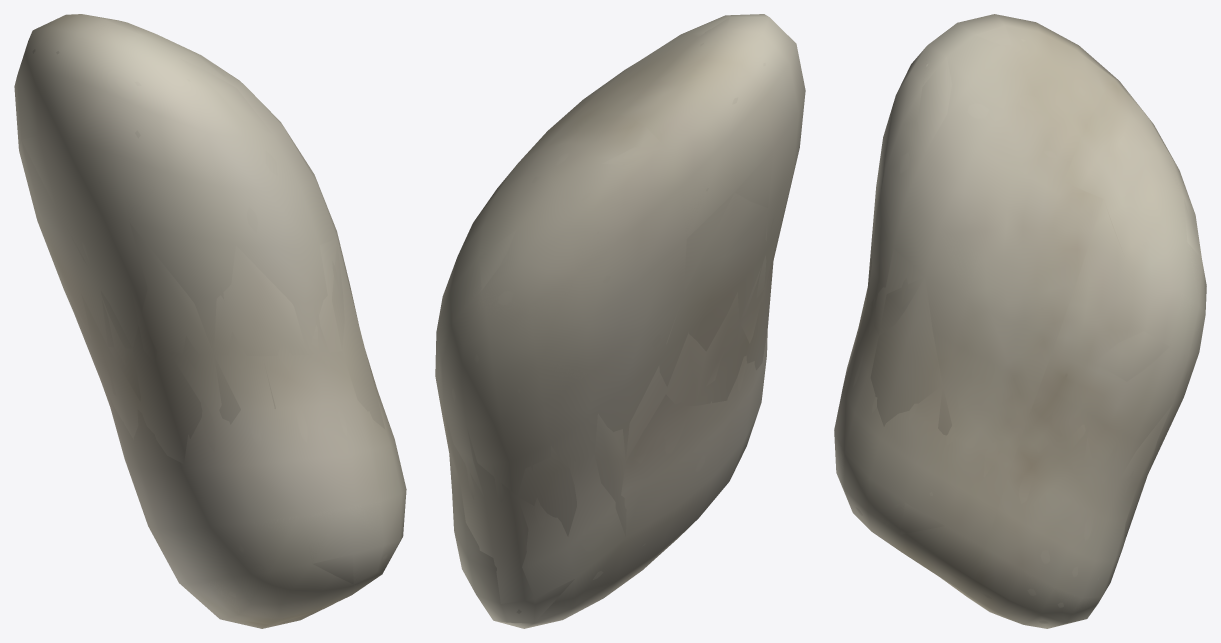
The model's file is R tarsale quartum.fbx.
3 views of the same model, side by side, from view 1: azimuth 30°, elevation 25°; view 2: azimuth 150°, elevation 25°; view 3: azimuth 270°, elevation 25° (orthographic). The views are drawn at different scales.
Visible parts, largest first — view 1: R tarsale quartum, R tarsale quartum low, R tarsale quartum high; view 2: R tarsale quartum, R tarsale quartum low, R tarsale quartum high; view 3: R tarsale quartum, R tarsale quartum low, R tarsale quartum high.
Boxes of the visible parts, bbox=[...] form: R tarsale quartum: bbox=[14, 14, 406, 628]; R tarsale quartum low: bbox=[14, 19, 403, 618]; R tarsale quartum high: bbox=[18, 19, 387, 623]; R tarsale quartum: bbox=[435, 14, 805, 628]; R tarsale quartum low: bbox=[437, 14, 797, 626]; R tarsale quartum high: bbox=[439, 29, 779, 623]; R tarsale quartum: bbox=[834, 14, 1206, 628]; R tarsale quartum low: bbox=[835, 15, 1206, 627]; R tarsale quartum high: bbox=[849, 39, 1193, 623].
Size of the model in its own units: 0.4188 by 0.8141 by 0.5234.
Materials: 1 (1 with a texture image).
